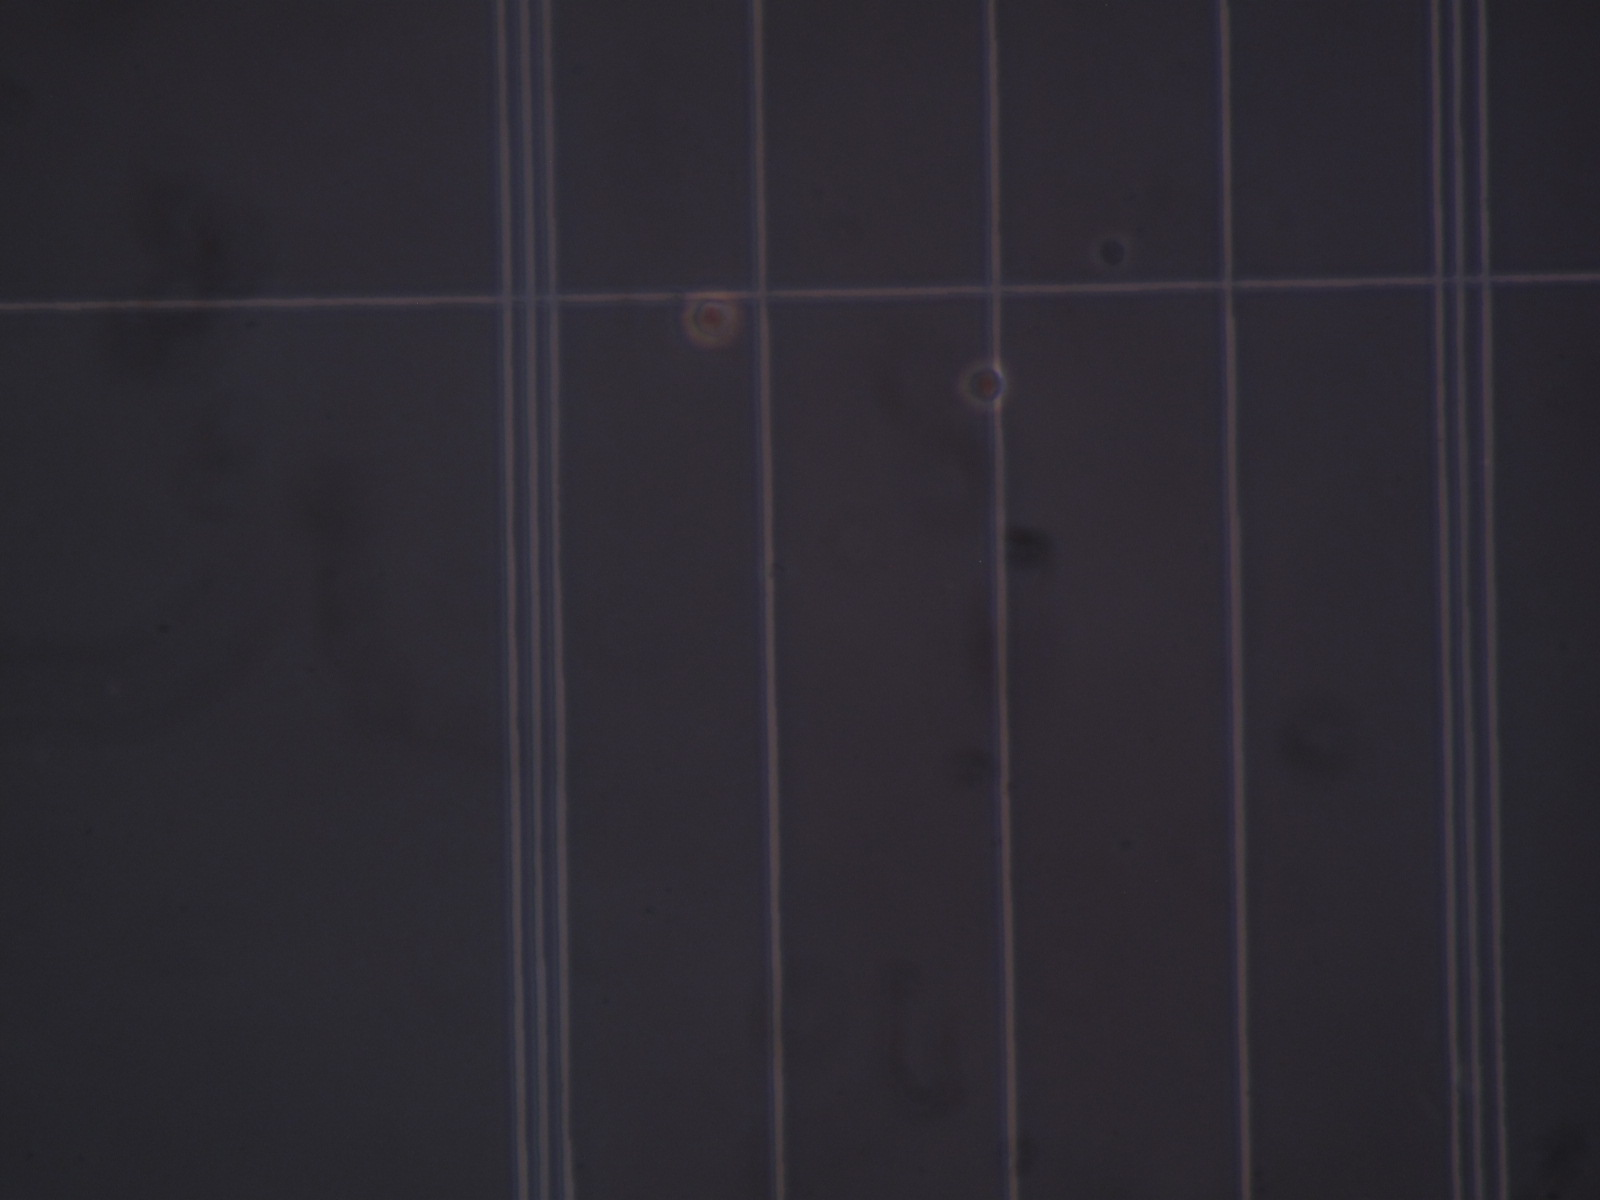hemo: (682, 292, 740, 347), (957, 359, 1009, 408), (1092, 231, 1133, 274)
